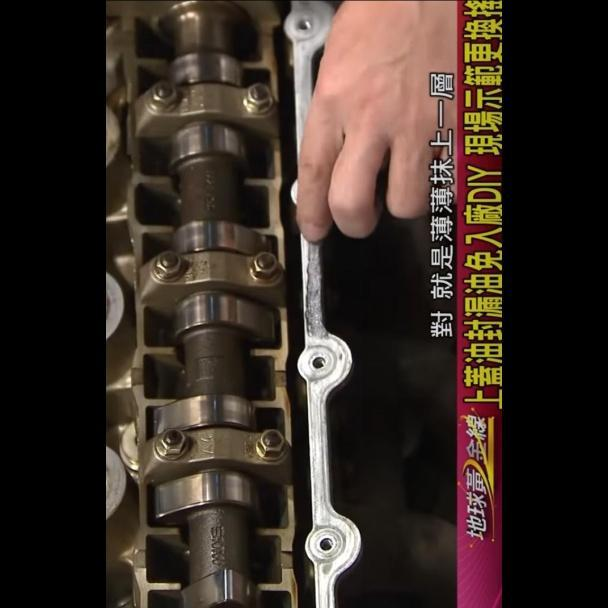hole: (318, 532, 336, 552), (310, 354, 326, 369)
